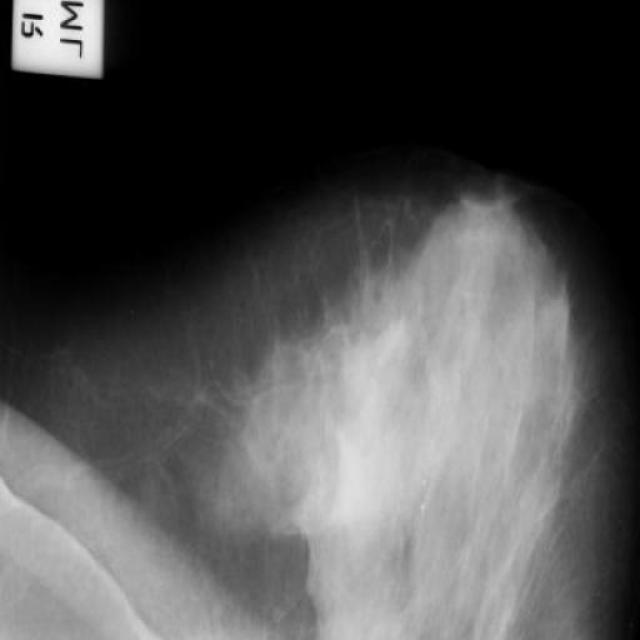tumor: (376, 294, 424, 374)
